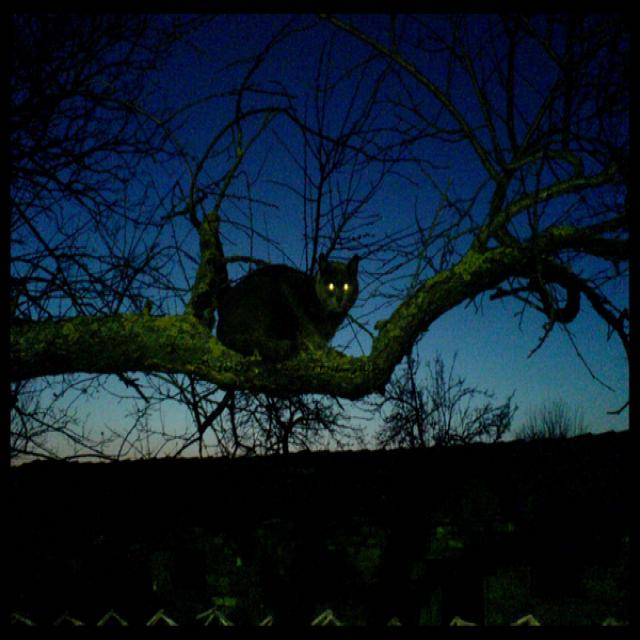Cat: (199, 231, 368, 362)
